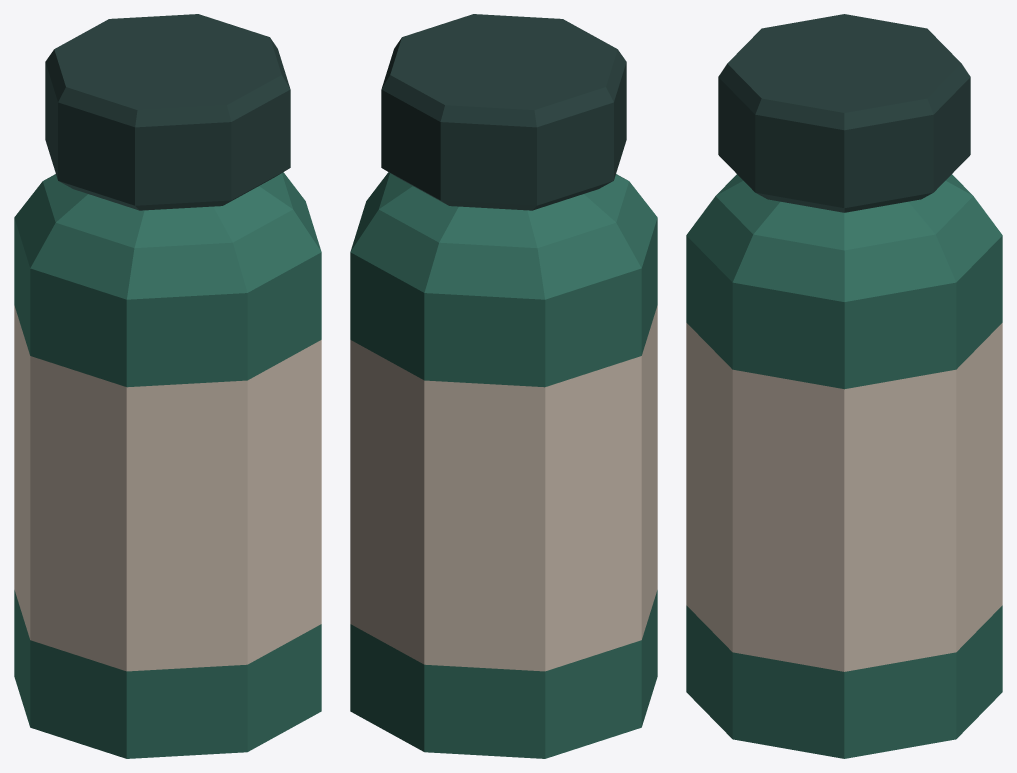
The model's file is SM_Props_Medical_06.fbx.
3 renders of one model, left to right at view 1: azimuth 30°, elevation 25°; view 2: azimuth 150°, elevation 25°; view 3: azimuth 270°, elevation 25°, orthographic.
Visible parts, largest first — view 1: SM_Props_Medical_06; view 2: SM_Props_Medical_06; view 3: SM_Props_Medical_06.
Boxes of the visible parts, <box> form: SM_Props_Medical_06: <box>14,14,321,758</box>; SM_Props_Medical_06: <box>350,14,657,758</box>; SM_Props_Medical_06: <box>686,14,1002,758</box>.
Size of the model in its own units: 0.0596 by 0.1307 by 0.0596.
